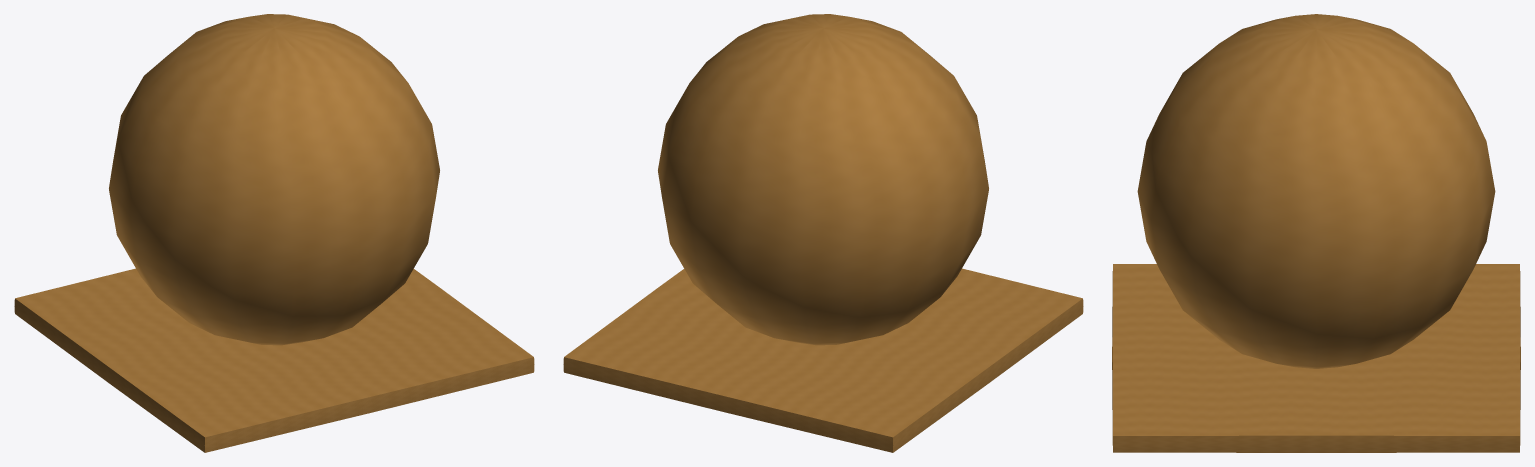
3 renders of one model, left to right at view 1: azimuth 30°, elevation 25°; view 2: azimuth 150°, elevation 25°; view 3: azimuth 270°, elevation 25°, orthographic. The views are drawn at different scales.
Parts seen in each view (by area): view 1: surface.0, surface.1; view 2: surface.0, surface.1; view 3: surface.0, surface.1.
Part boxes in pixels (x1=…): surface.0: x1=109, y1=14, x2=439, y2=345; surface.1: x1=14, y1=268, x2=534, y2=452; surface.0: x1=658, y1=14, x2=988, y2=345; surface.1: x1=563, y1=268, x2=1083, y2=452; surface.0: x1=1137, y1=14, x2=1495, y2=368; surface.1: x1=1112, y1=264, x2=1520, y2=452.
Size of the model in its own units: 0.8 by 0.73 by 0.8.
Materials: 1 (1 with a texture image).
